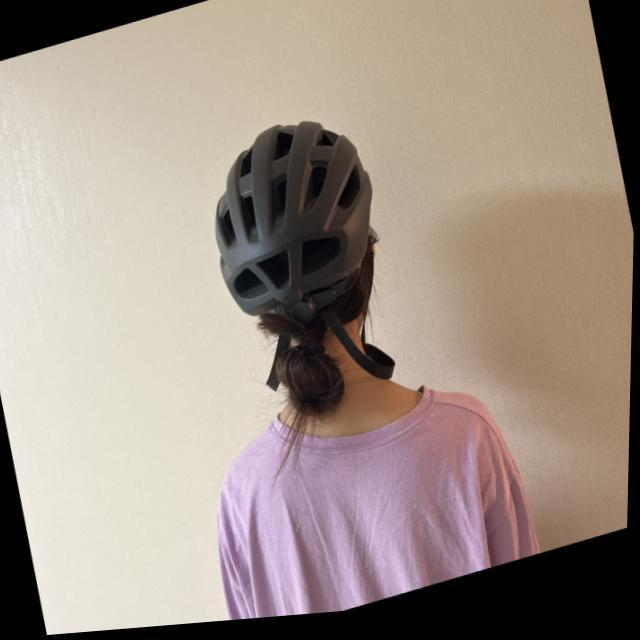Helmet: (209, 113, 405, 385)
